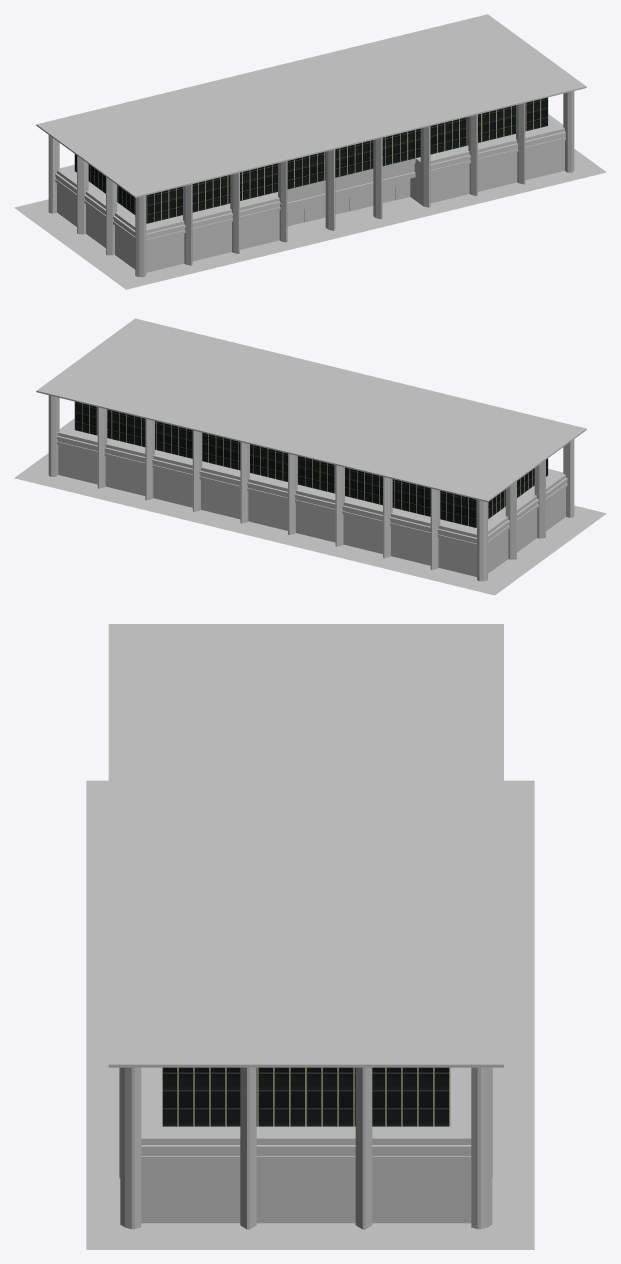
3 views of the same model, one above another, from view 1: azimuth 30°, elevation 25°; view 2: azimuth 150°, elevation 25°; view 3: azimuth 270°, elevation 25° (orthographic). The views are drawn at different scales.
Parts seen in each view (by area): view 1: BB-056; view 2: BB-056; view 3: BB-056.
Part boxes in pixels (x1,y1,x2,y2): BB-056: (14,14,606,289); BB-056: (14,318,606,595); BB-056: (86,624,534,1249).
Size of what is drawn, in the model's own units: 89.12 by 15.15 by 36.
